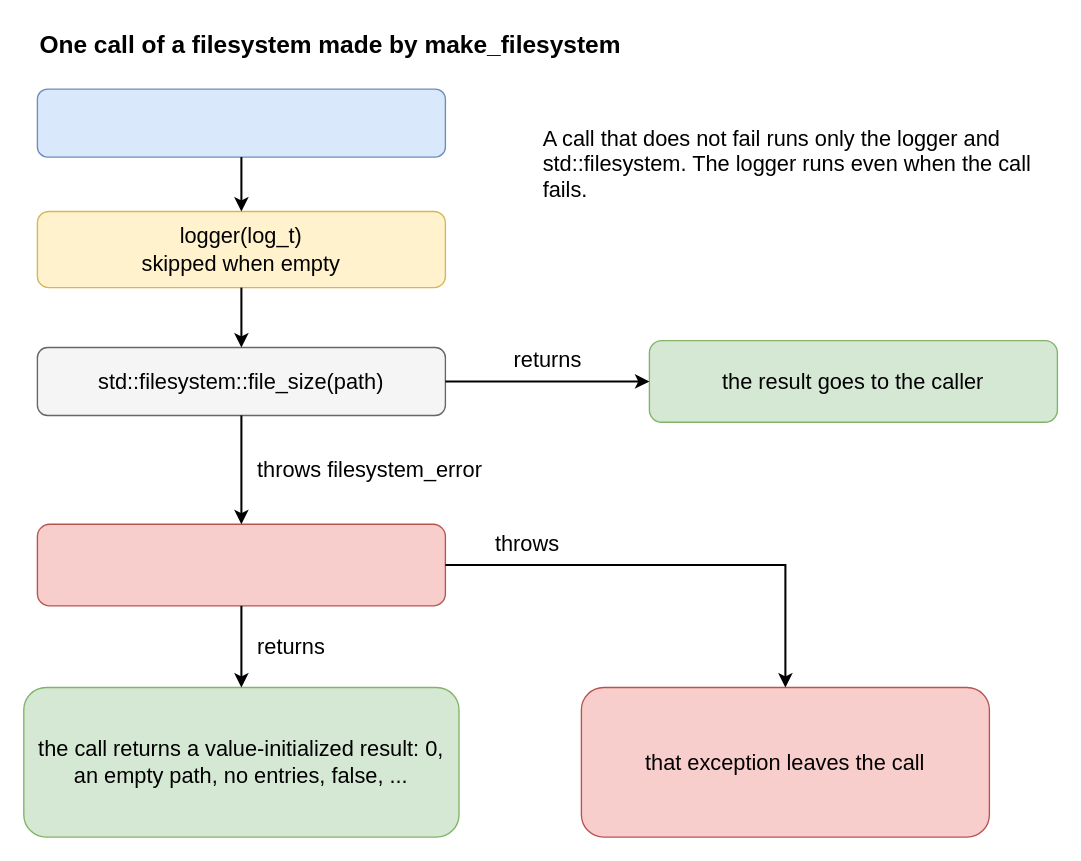
Image size: 1081x861. Some labels were removed from this diagram. The shapes that lost their labels are listed below. From the top down, each one's centre as x and y in pixels, then its label:
At point (240, 122): "filesystem.file_size(path)".
At point (240, 564): "on_error(filesystem_error) skipped when empty".
